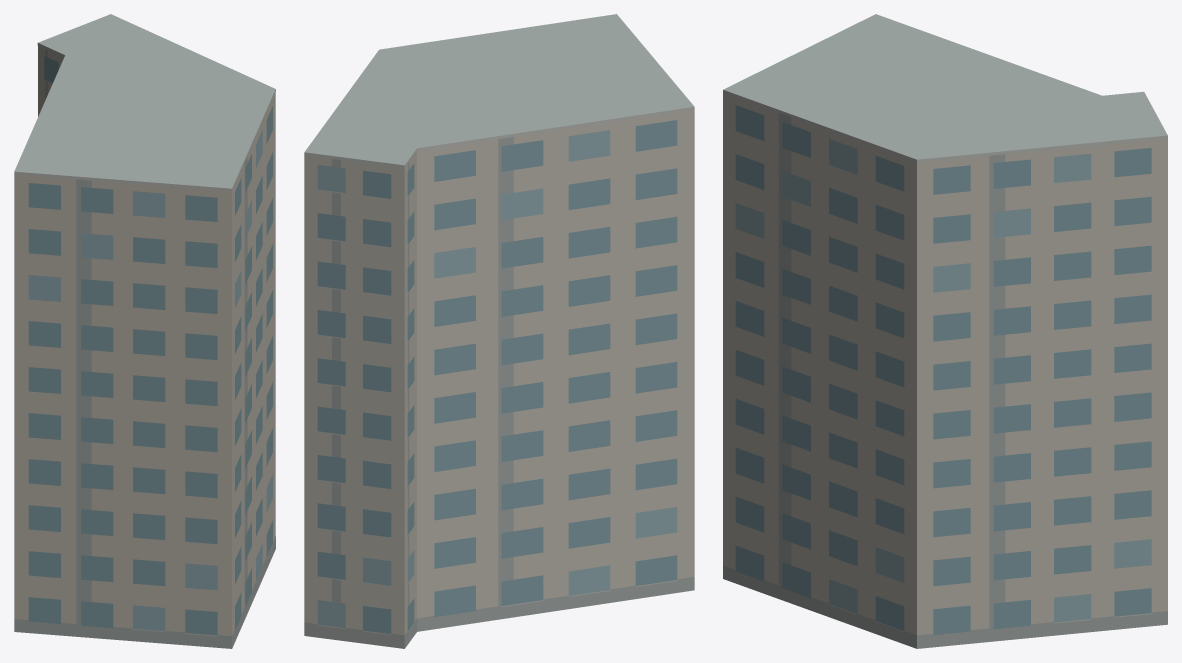
Rendered from residential-f280f933-fe28-4535-91dc-fe576c997650.glb.
The picture shows the model from 3 angles, left to right: view 1: azimuth 30°, elevation 25°; view 2: azimuth 150°, elevation 25°; view 3: azimuth 270°, elevation 25°; orthographic projection. The views are drawn at different scales.
Visible parts, largest first — view 1: residential-f280f933-fe28-4535-91dc-fe576c997650.tmp; view 2: residential-f280f933-fe28-4535-91dc-fe576c997650.tmp; view 3: residential-f280f933-fe28-4535-91dc-fe576c997650.tmp.
Part boxes in pixels (box(x1,y1,x2,y2)): residential-f280f933-fe28-4535-91dc-fe576c997650.tmp: box(14, 14, 275, 648); residential-f280f933-fe28-4535-91dc-fe576c997650.tmp: box(304, 14, 694, 648); residential-f280f933-fe28-4535-91dc-fe576c997650.tmp: box(723, 14, 1167, 648).
Size of the model in its own units: 24.92 by 39 by 32.15.
